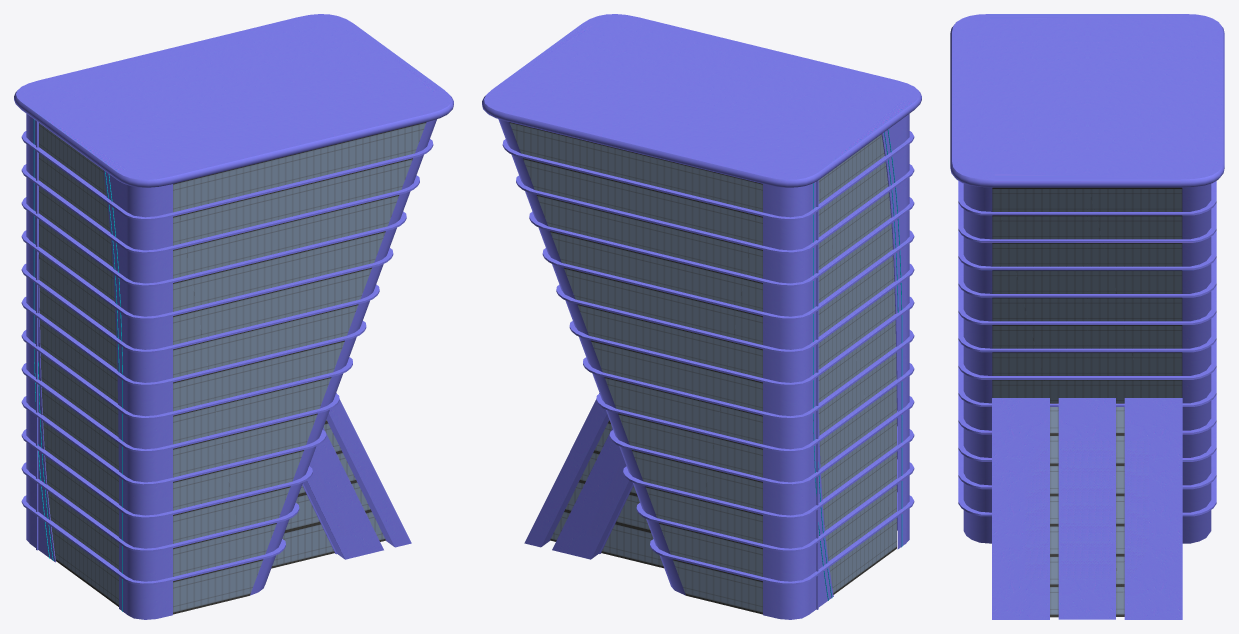
The model's file is Building_003_2st_L1.fbx.
3 views of the same model, side by side, from view 1: azimuth 30°, elevation 25°; view 2: azimuth 150°, elevation 25°; view 3: azimuth 270°, elevation 25° (orthographic). The views are drawn at different scales.
Visible parts, largest first — view 1: Building_003_2st_L1; view 2: Building_003_2st_L1; view 3: Building_003_2st_L1.
Boxes of the visible parts, x1,y1,x2,y2 form: Building_003_2st_L1: [14, 14, 453, 619]; Building_003_2st_L1: [482, 14, 921, 619]; Building_003_2st_L1: [950, 14, 1224, 619].
Bounding box in the file's own units: 50.91 × 65.34 × 35.35.
Materials: 4 (3 with a texture image).
